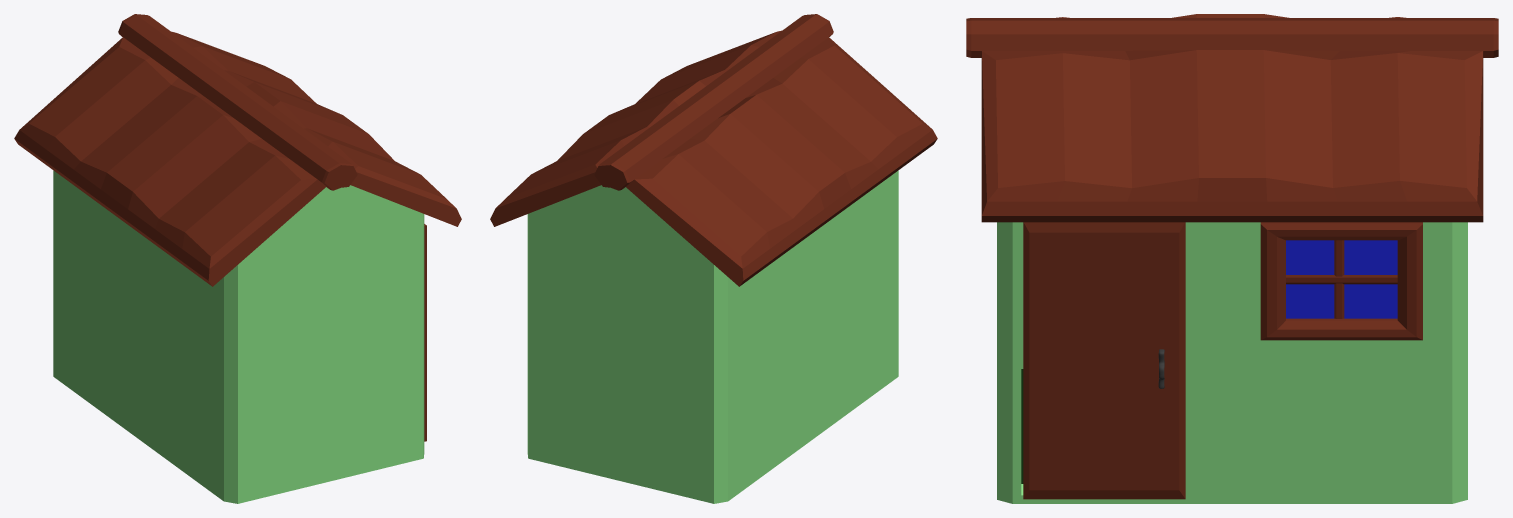
The model's file is House.fbx.
The picture shows the model from 3 angles, left to right: view 1: azimuth 30°, elevation 25°; view 2: azimuth 150°, elevation 25°; view 3: azimuth 270°, elevation 25°; orthographic projection. The views are drawn at different scales.
Visible parts, largest first — view 1: Cube, Cube.002, Cube.001; view 2: Cube, Cube.002; view 3: Cube.002, Cube, Cube.001, Cube.006, Cube.005, Cube.004.
Boxes of the visible parts, x1,y1,x2,y2 form: Cube: (53, 170, 424, 503); Cube.002: (14, 14, 461, 286); Cube.001: (424, 224, 426, 441); Cube: (527, 170, 898, 503); Cube.002: (490, 14, 937, 286); Cube.002: (966, 14, 1498, 222); Cube: (997, 222, 1467, 503); Cube.001: (1023, 222, 1185, 499); Cube.006: (1286, 240, 1397, 318); Cube.005: (1286, 275, 1397, 284); Cube.004: (1334, 240, 1344, 318).
Size of the model in its own units: 381 by 468 by 538.
